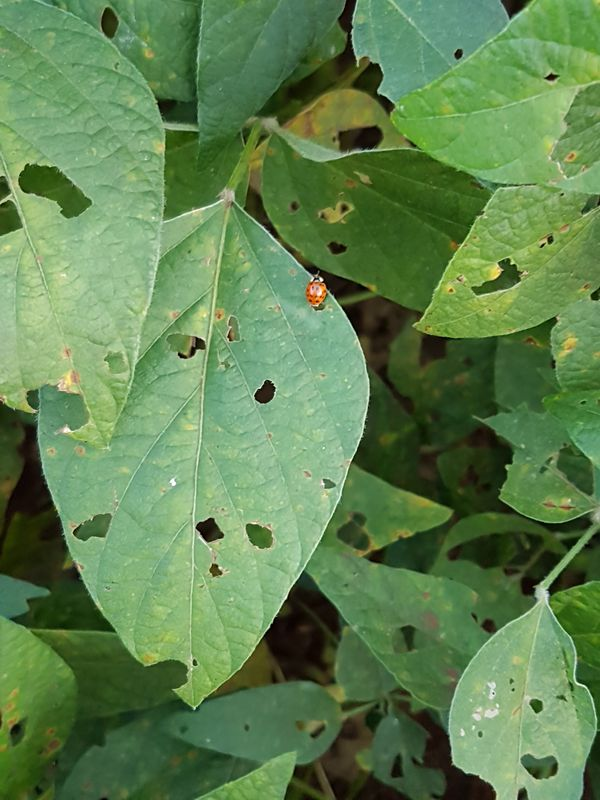Coccinellidae: (293, 266, 341, 318)
